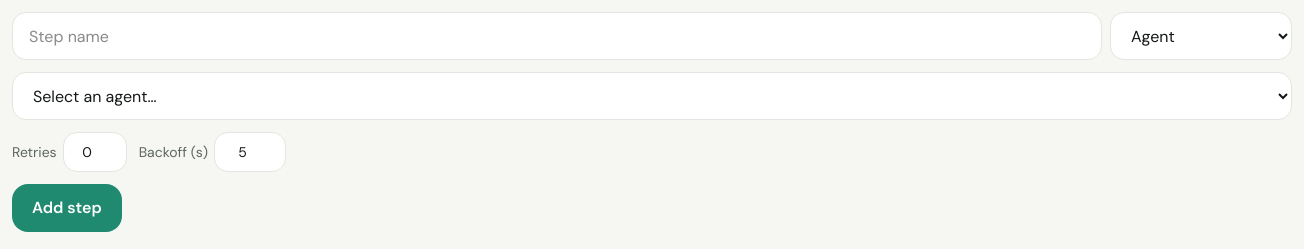
Scenario: WorkflowNodeForm.svelte › shows a no-configuration hint for summarize and merge and human_input steps
Select "Summarize" in the 1st dropdown at (1201,36), box left=1110, top=12, right=1292, bottom=60
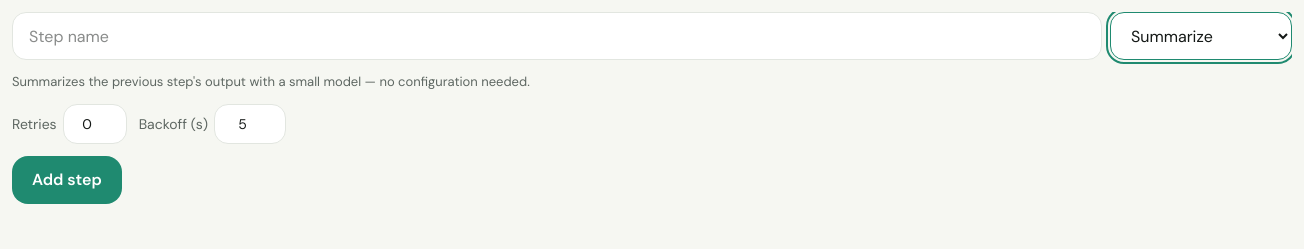
Result: the text "no configuration needed" is shown at left=12, top=73, right=530, bottom=90
Select "Merge" in the dropdown at (1201,36), box left=1110, top=12, right=1292, bottom=60
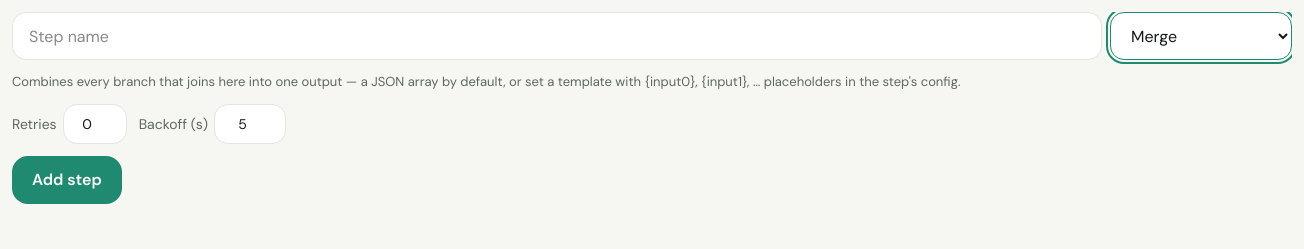
Result: the text "Combines every branch" is shown at left=12, top=73, right=960, bottom=90
Select "Wait for a person" in the dropdown at (1201,36), box left=1110, top=12, right=1292, bottom=60
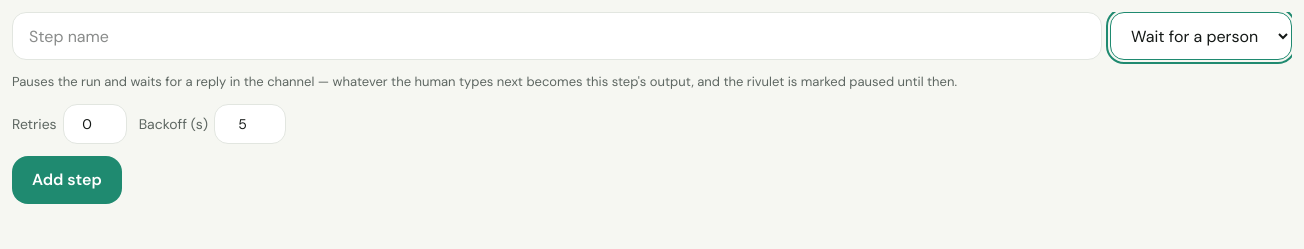
Result: the text "Pauses the run" is shown at left=12, top=73, right=957, bottom=90
